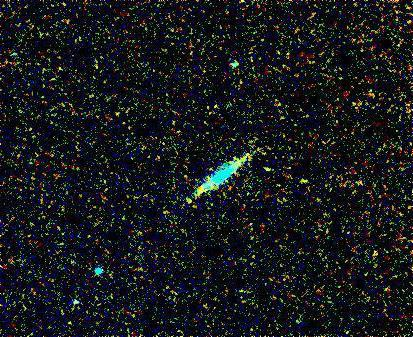star: (174, 187, 204, 217)
